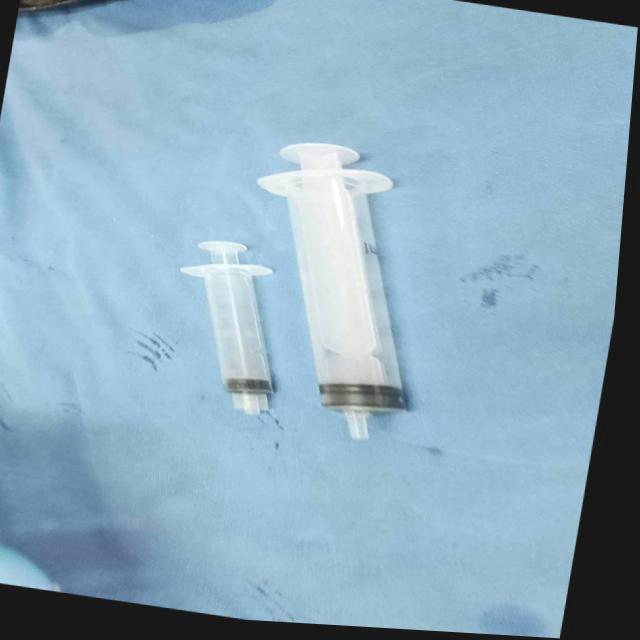Infectious: (180, 239, 277, 415)
Sharps: (257, 140, 409, 440)
